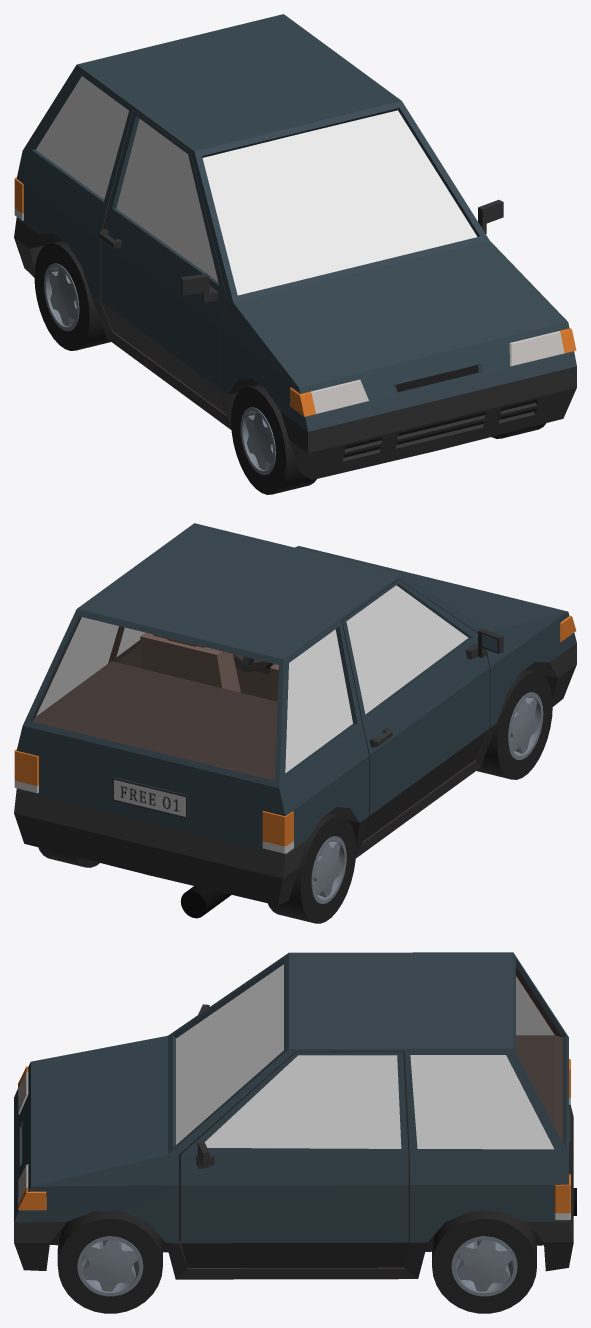
File: car2 1.fbx
3 views of the same model, one above another, from view 1: azimuth 30°, elevation 25°; view 2: azimuth 150°, elevation 25°; view 3: azimuth 270°, elevation 25° (orthographic). The views are drawn at different scales.
Parts seen in each view (by area): view 1: car body, windows, door r, win door r.001, wheel fr, wheel br; view 2: car body, door r, windows, win door r.001, wheel br, wheel fr, interior, free number, Cylinder, door l; view 3: car body, door l, windows, win door l.001, wheel fl, wheel bl.
Part boxes in pixels (x1,y1,x2,y2): car body: (14, 14, 576, 480); windows: (36, 76, 477, 295); door r: (99, 110, 227, 414); win door r.001: (116, 119, 218, 281); wheel fr: (231, 384, 316, 494); wheel br: (34, 240, 110, 350); car body: (14, 523, 576, 905); door r: (341, 579, 503, 841); windows: (36, 617, 352, 773); win door r.001: (346, 585, 468, 714); wheel br: (268, 813, 356, 923); wheel fr: (476, 669, 552, 779); interior: (140, 632, 278, 701); free number: (112, 777, 188, 818); Cylinder: (180, 886, 231, 918); door l: (111, 626, 140, 668); car body: (14, 952, 573, 1279); door l: (179, 1051, 409, 1267); windows: (176, 964, 554, 1149); win door l.001: (204, 1055, 401, 1148); wheel fl: (57, 1211, 162, 1313); wheel bl: (432, 1211, 536, 1313).
Bounding box in the file's own units: 218 × 171 × 348.
Materials: 3 (1 with a texture image).
